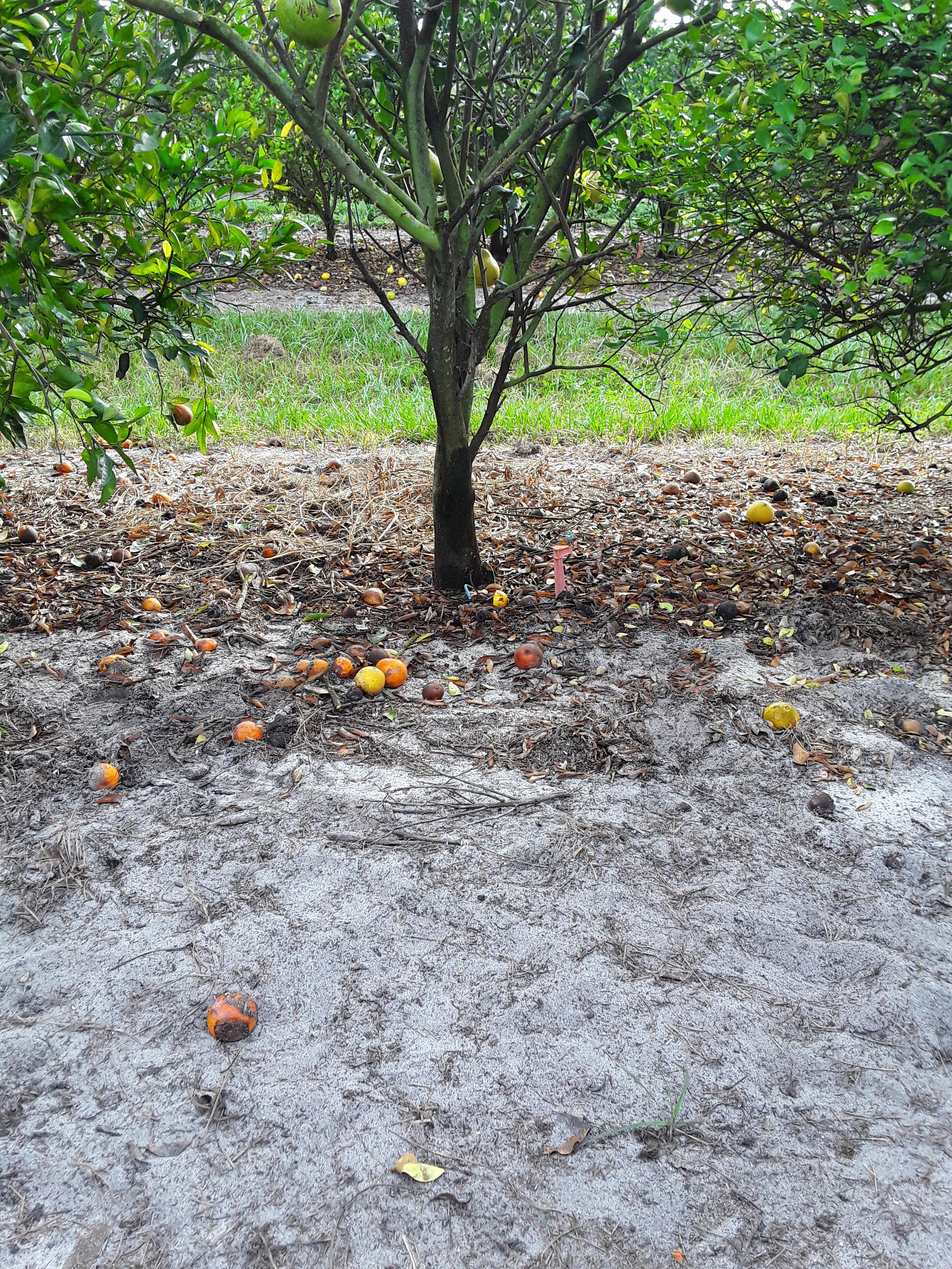fruit_on_ground: (275, 0, 346, 50), (545, 243, 587, 279), (565, 257, 604, 294), (576, 166, 611, 205), (475, 247, 503, 291), (423, 144, 448, 191), (172, 401, 195, 426)
fruit_on_tree: (204, 990, 261, 1044), (84, 763, 124, 797), (765, 699, 802, 734), (375, 652, 409, 688), (229, 718, 270, 747), (355, 662, 387, 697), (512, 641, 545, 671), (810, 788, 844, 816), (746, 497, 775, 525), (896, 713, 930, 736), (420, 678, 447, 702), (304, 661, 335, 680), (364, 588, 393, 607), (330, 657, 355, 678), (667, 544, 692, 564), (714, 601, 741, 619), (99, 654, 126, 672), (492, 587, 512, 611), (19, 524, 40, 546), (192, 636, 217, 654), (262, 542, 282, 562), (152, 488, 173, 507), (293, 655, 311, 677), (340, 605, 363, 622), (142, 596, 164, 613), (897, 479, 918, 496), (821, 575, 839, 593), (112, 548, 133, 563), (54, 461, 78, 474), (718, 509, 735, 527), (803, 541, 822, 556), (682, 470, 702, 484), (771, 488, 789, 503), (664, 481, 682, 495), (764, 479, 784, 491), (632, 527, 652, 538), (531, 506, 547, 519), (149, 631, 168, 641), (143, 436, 156, 450), (822, 496, 838, 507), (632, 547, 649, 557), (326, 458, 340, 470), (121, 439, 135, 450), (136, 439, 147, 451), (850, 543, 864, 552), (913, 556, 927, 565), (746, 467, 757, 478), (386, 289, 396, 300), (416, 251, 426, 262), (397, 276, 407, 286), (385, 266, 396, 275), (321, 271, 331, 280), (311, 280, 321, 288)
